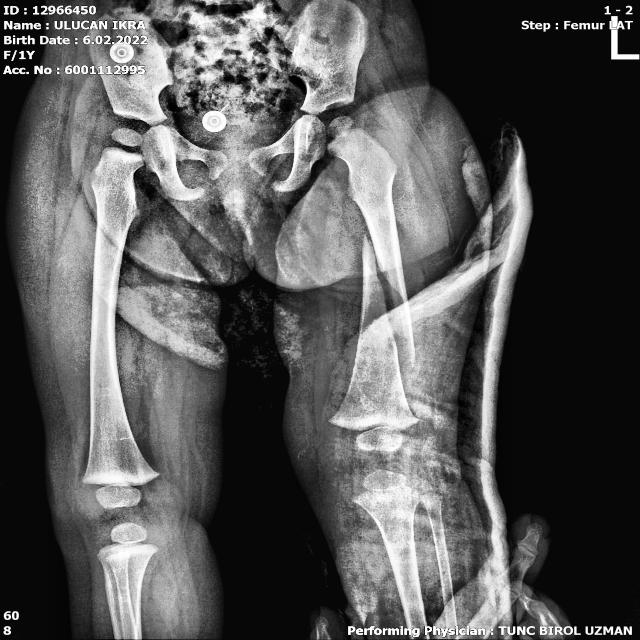Fracture: (342, 229, 438, 390)
